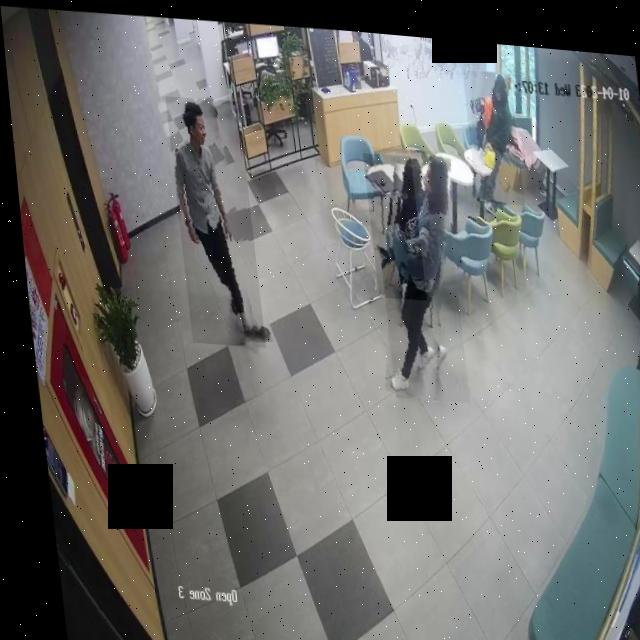person: (365, 138, 462, 395), (163, 91, 259, 344), (360, 145, 421, 294), (461, 60, 521, 197)
